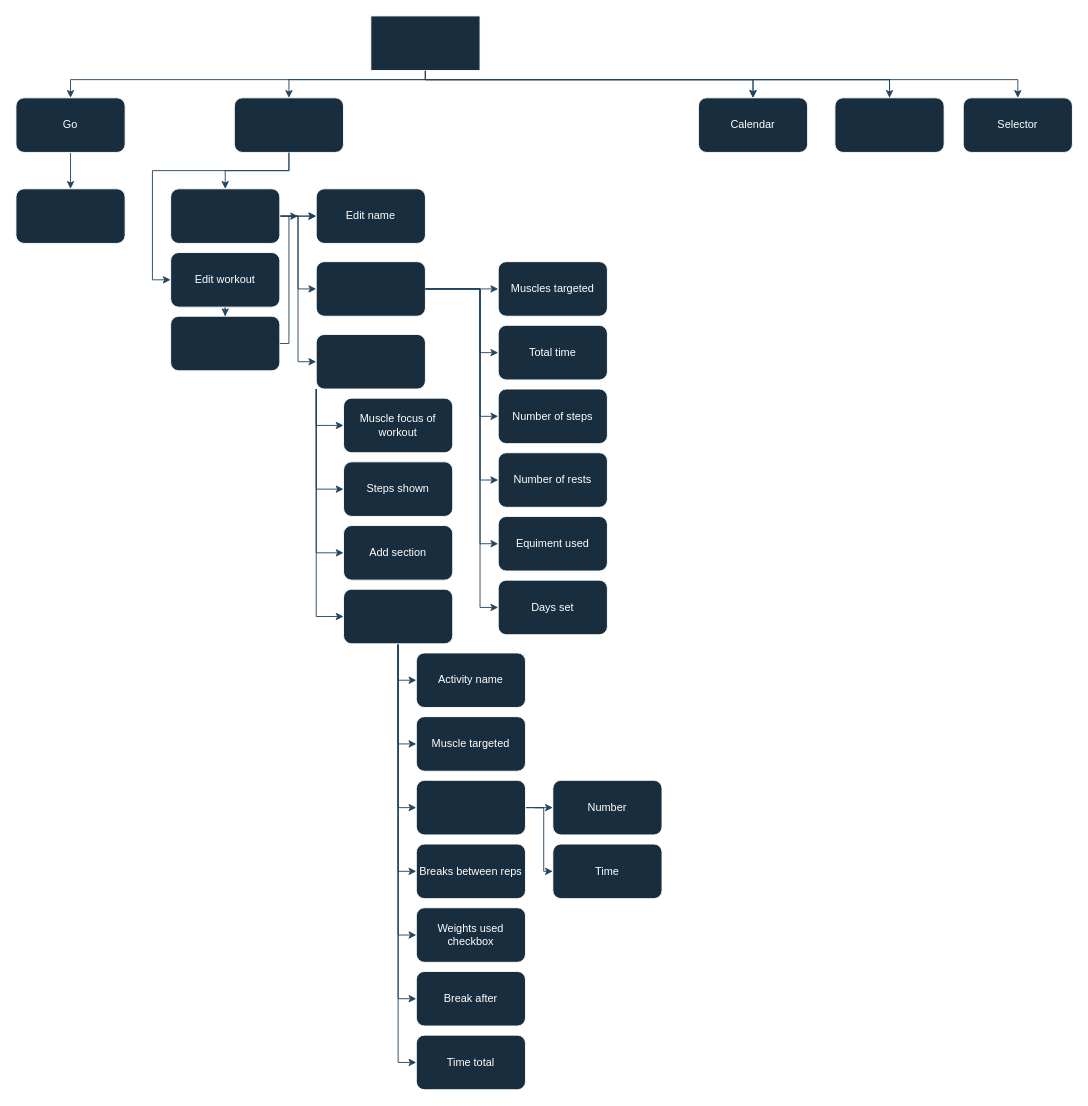
The diagram is 1088 pixels wide and 1106 high, and some of its shapes have lost their labels. The shapes that lost their labels are listed below. From the top down, each one's centre as x and y in pixels, then its label:
[425,43]: Workout App
[288,124]: Create
[889,124]: Stopwatch
[70,215]: Start the workout for the day
[225,215]: New workout
[370,288]: Total Stats
[225,343]: Select workout
[370,361]: Overview
[398,616]: Add activity
[470,807]: Reps
